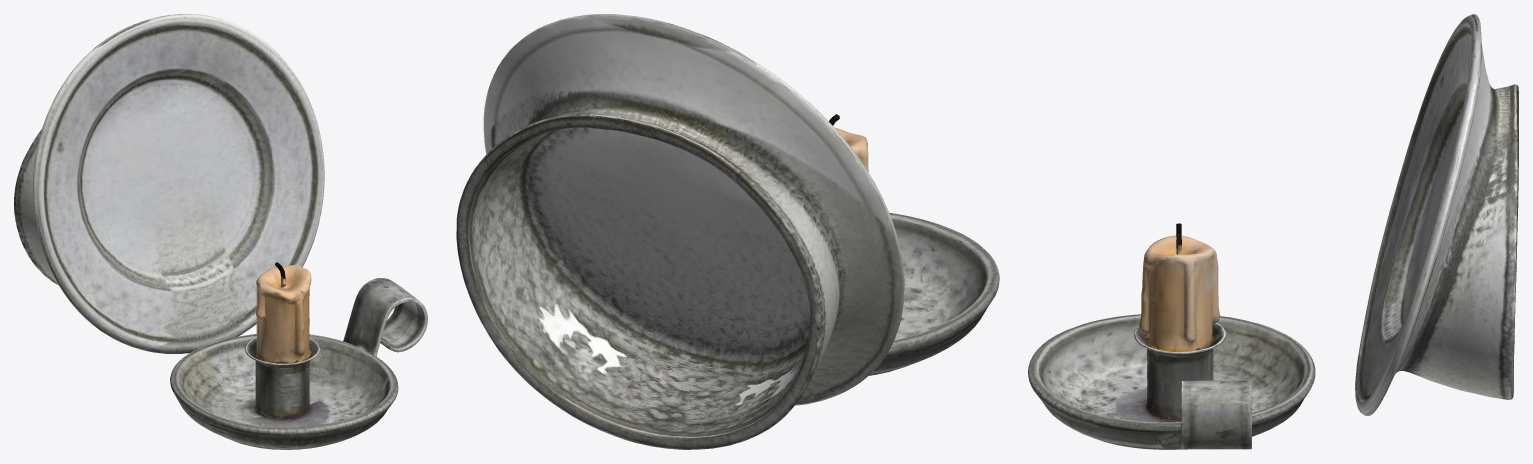
Rendered from candle-sconce.glb.
The picture shows the model from 3 angles, left to right: view 1: azimuth 30°, elevation 25°; view 2: azimuth 150°, elevation 25°; view 3: azimuth 270°, elevation 25°; orthographic projection. The views are drawn at different scales.
Parts seen in each view (by area): view 1: Mesh_0; view 2: Mesh_0; view 3: Mesh_0.
Boxes of the visible parts, x1,y1,x2,y2 form: Mesh_0: (14,14,427,449); Mesh_0: (456,14,999,449); Mesh_0: (1028,14,1518,449).
Size of the model in its own units: 1.61 by 1.6 by 1.9.
1 material, 1 textured.
